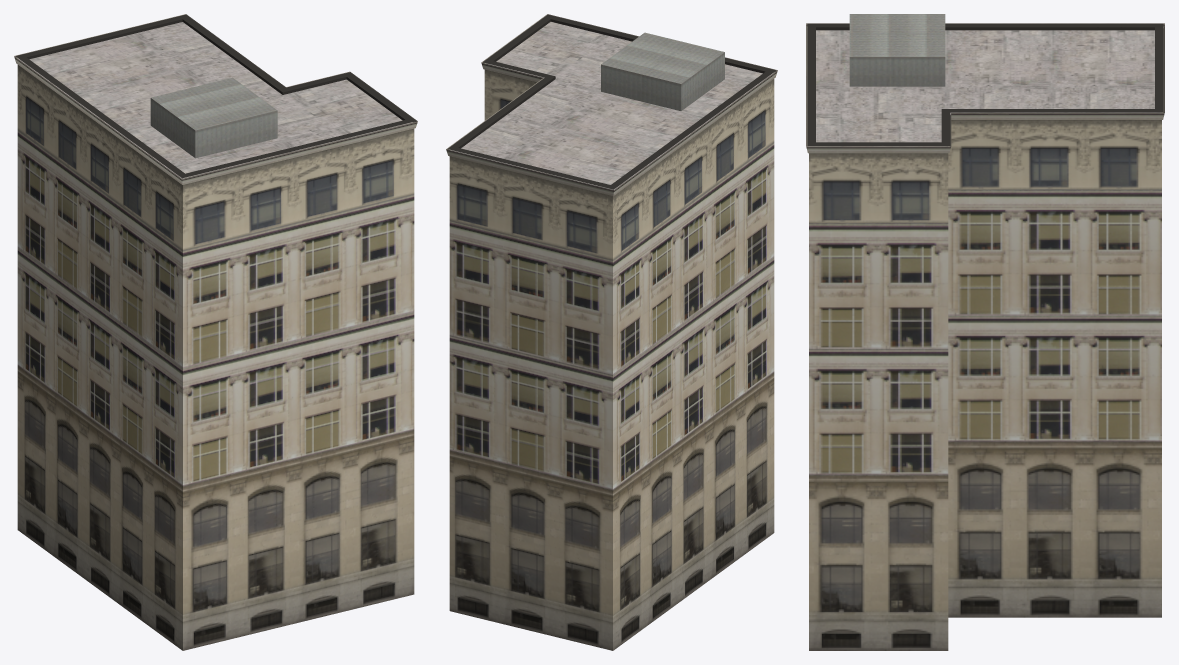
File: building_1.obj
3 renders of one model, left to right at view 1: azimuth 30°, elevation 25°; view 2: azimuth 150°, elevation 25°; view 3: azimuth 270°, elevation 25°, orthographic. The views are drawn at different scales.
Parts seen in each view (by area): view 1: BakedBuilding_303; view 2: BakedBuilding_303; view 3: BakedBuilding_303.
Boxes of the visible parts, x1=… form: BakedBuilding_303: x1=14, y1=14, x2=417, y2=650; BakedBuilding_303: x1=446, y1=14, x2=777, y2=650; BakedBuilding_303: x1=806, y1=14, x2=1164, y2=650.
Bounding box in the file's own units: 55.11 × 111 × 67.91.
